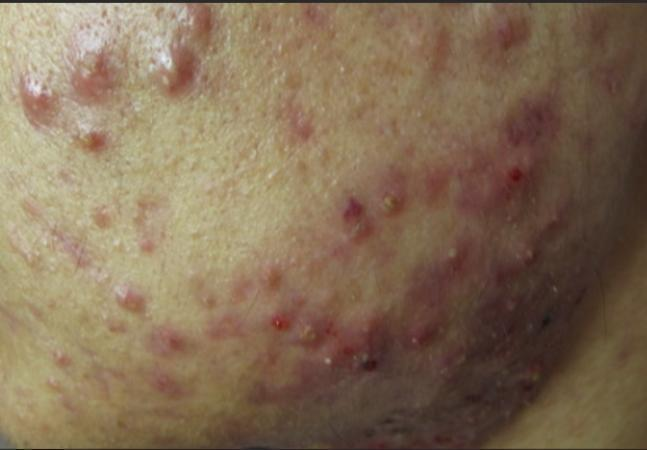cystic: (400, 309, 450, 354), (175, 1, 214, 41)
papular: (331, 191, 385, 253), (480, 1, 544, 53), (150, 325, 193, 364), (249, 255, 291, 294), (143, 369, 184, 400), (46, 343, 76, 372)
purulent: (434, 243, 483, 280)
sebo-crystan-conglo: (473, 137, 552, 214), (65, 39, 129, 95), (19, 64, 69, 133), (142, 45, 198, 103), (481, 364, 551, 407), (311, 349, 388, 382), (499, 236, 552, 277), (379, 193, 423, 227), (115, 283, 150, 321), (290, 319, 330, 350), (82, 126, 115, 159)
whitehead: (403, 103, 455, 130), (106, 241, 142, 262), (186, 219, 216, 243), (332, 56, 350, 95), (260, 170, 284, 198), (315, 99, 337, 128)
